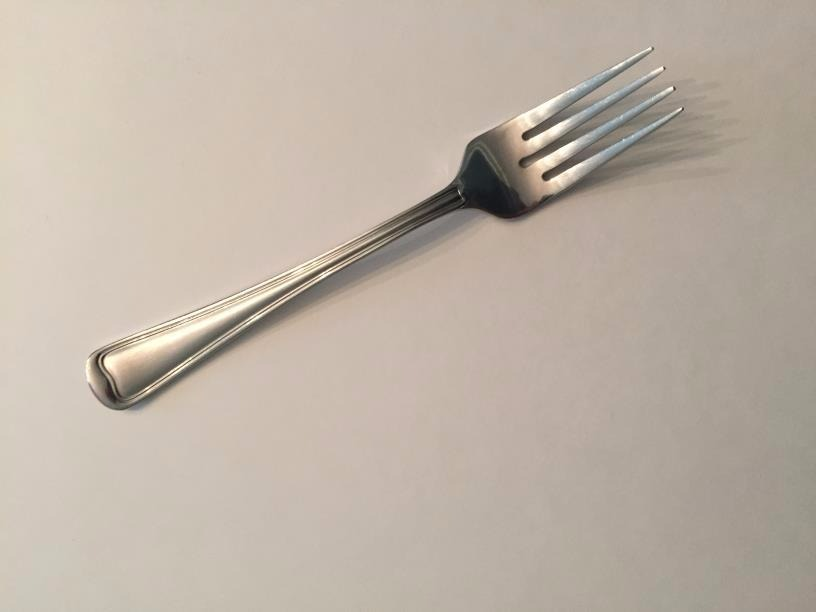fork: (72, 33, 701, 421)
